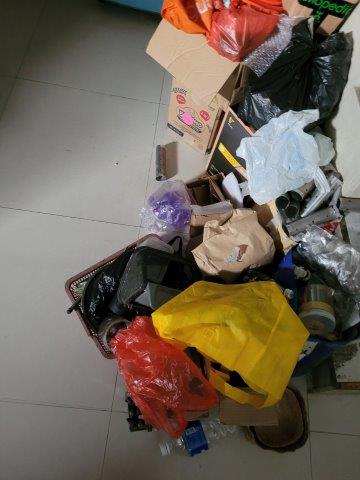botolplastik: (161, 416, 250, 459)
kardus: (153, 23, 232, 154), (286, 1, 358, 36)
plastik: (115, 329, 206, 427), (240, 116, 326, 208), (277, 33, 351, 118), (211, 1, 281, 58), (140, 188, 190, 233)
